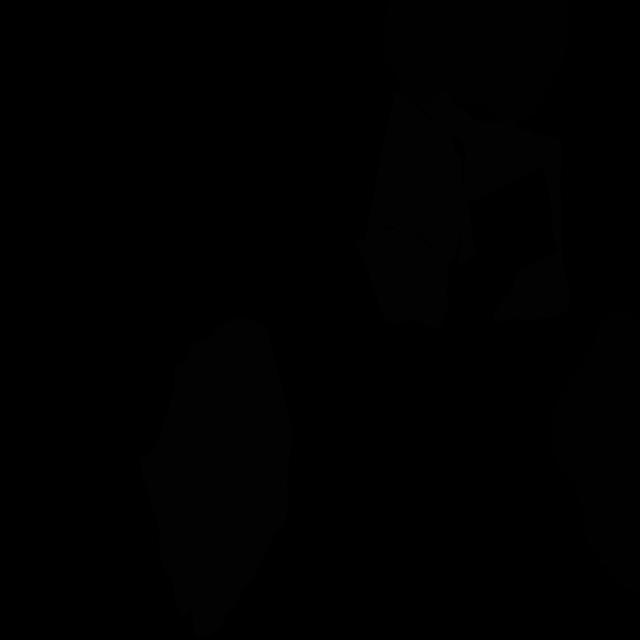cardboard: (140, 318, 293, 638), (414, 90, 570, 321), (370, 90, 463, 262), (354, 211, 450, 329)
rigid_plastic: (552, 310, 640, 592), (384, 0, 569, 124)
